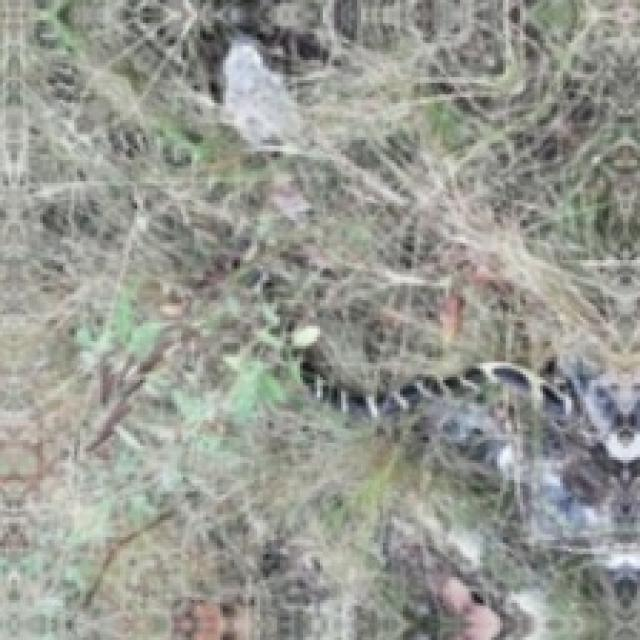king cobra: (306, 360, 637, 637)
